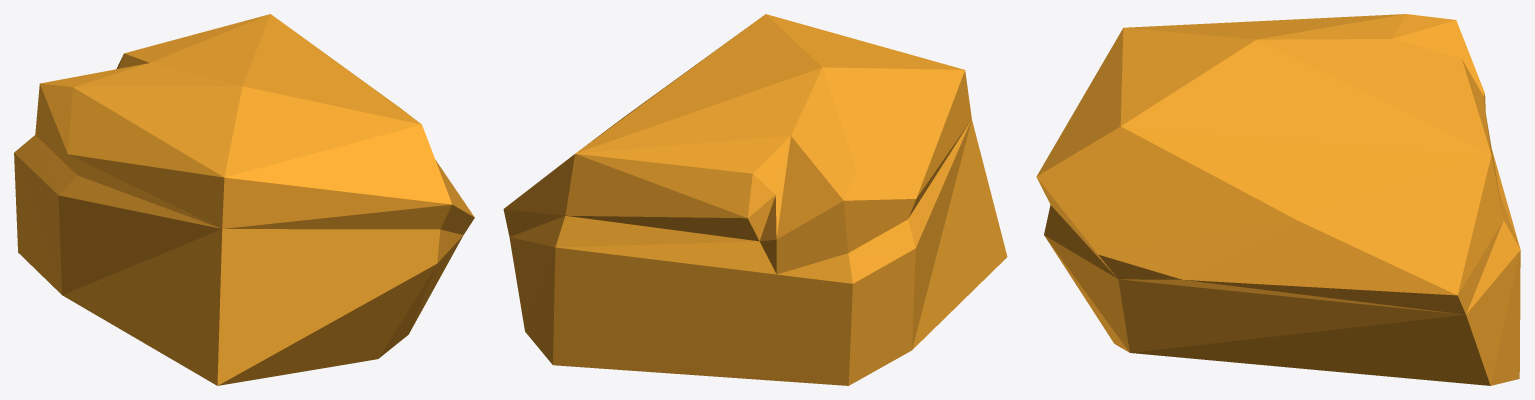
Rendered from SM_Stone_C_Snow.fbx.
The picture shows the model from 3 angles, left to right: view 1: azimuth 30°, elevation 25°; view 2: azimuth 150°, elevation 25°; view 3: azimuth 270°, elevation 25°; orthographic projection. The views are drawn at different scales.
Parts seen in each view (by area): view 1: stone-c-snow; view 2: stone-c-snow; view 3: stone-c-snow.
Boxes of the visible parts, x1=… form: stone-c-snow: x1=14, y1=14, x2=474, y2=385; stone-c-snow: x1=503, y1=14, x2=1007, y2=385; stone-c-snow: x1=1036, y1=14, x2=1520, y2=385.
Bounding box in the file's own units: 0.3733 × 0.2416 × 0.3982.
